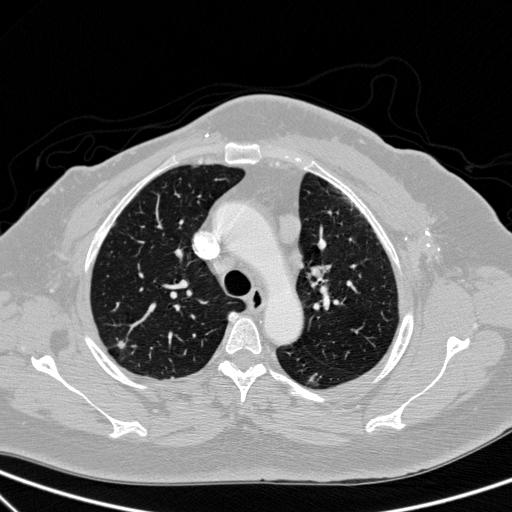nodule: (115, 339, 127, 351)
